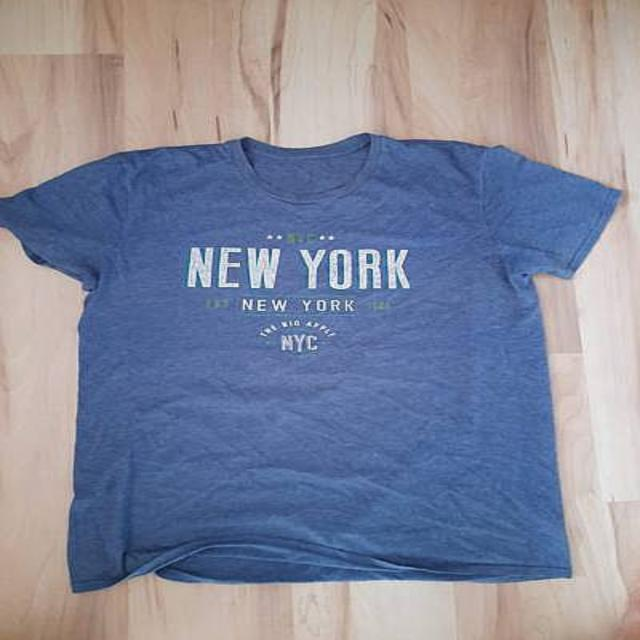T_SHIRT: (5, 129, 640, 599)
